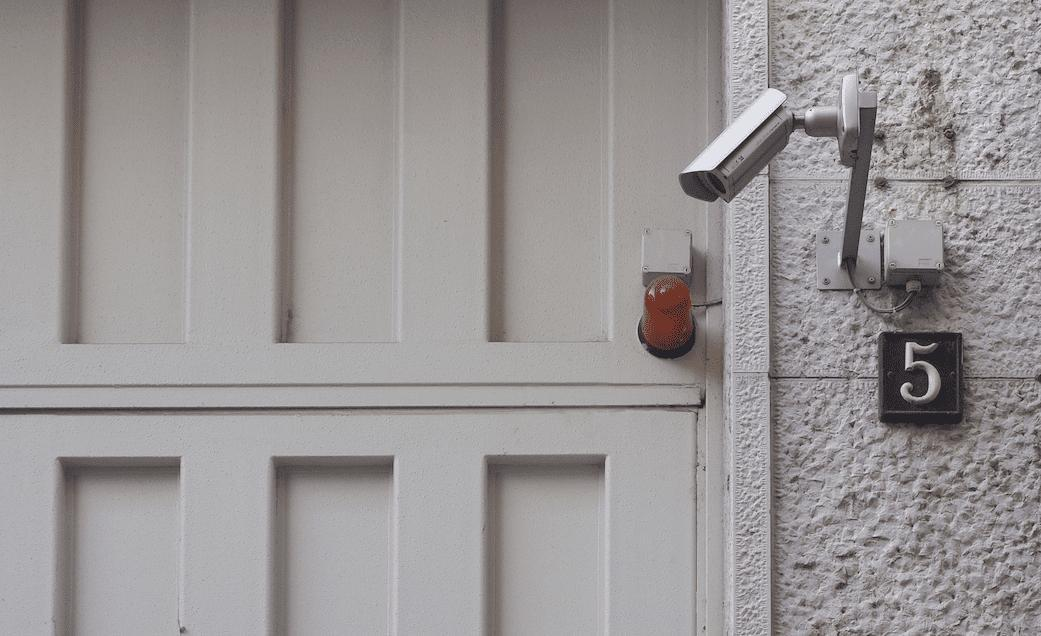Security camera: (677, 70, 945, 307)
